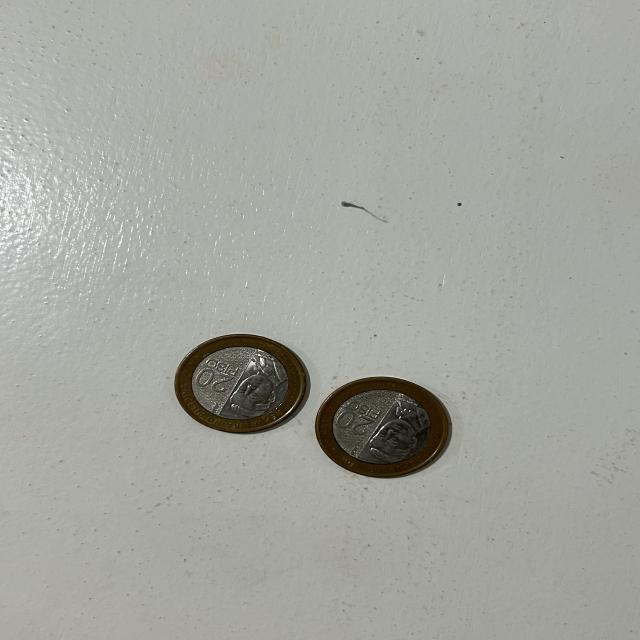20_New_Front: (335, 398, 380, 439), (193, 361, 240, 397)
